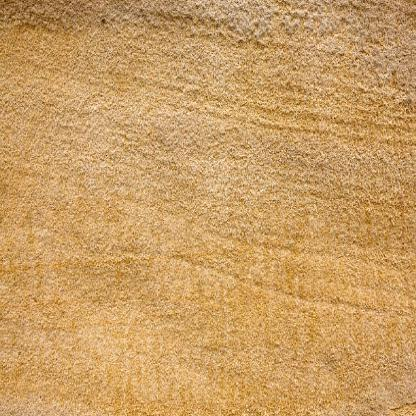Sedimentary_Sandstone: (5, 5, 415, 415)
